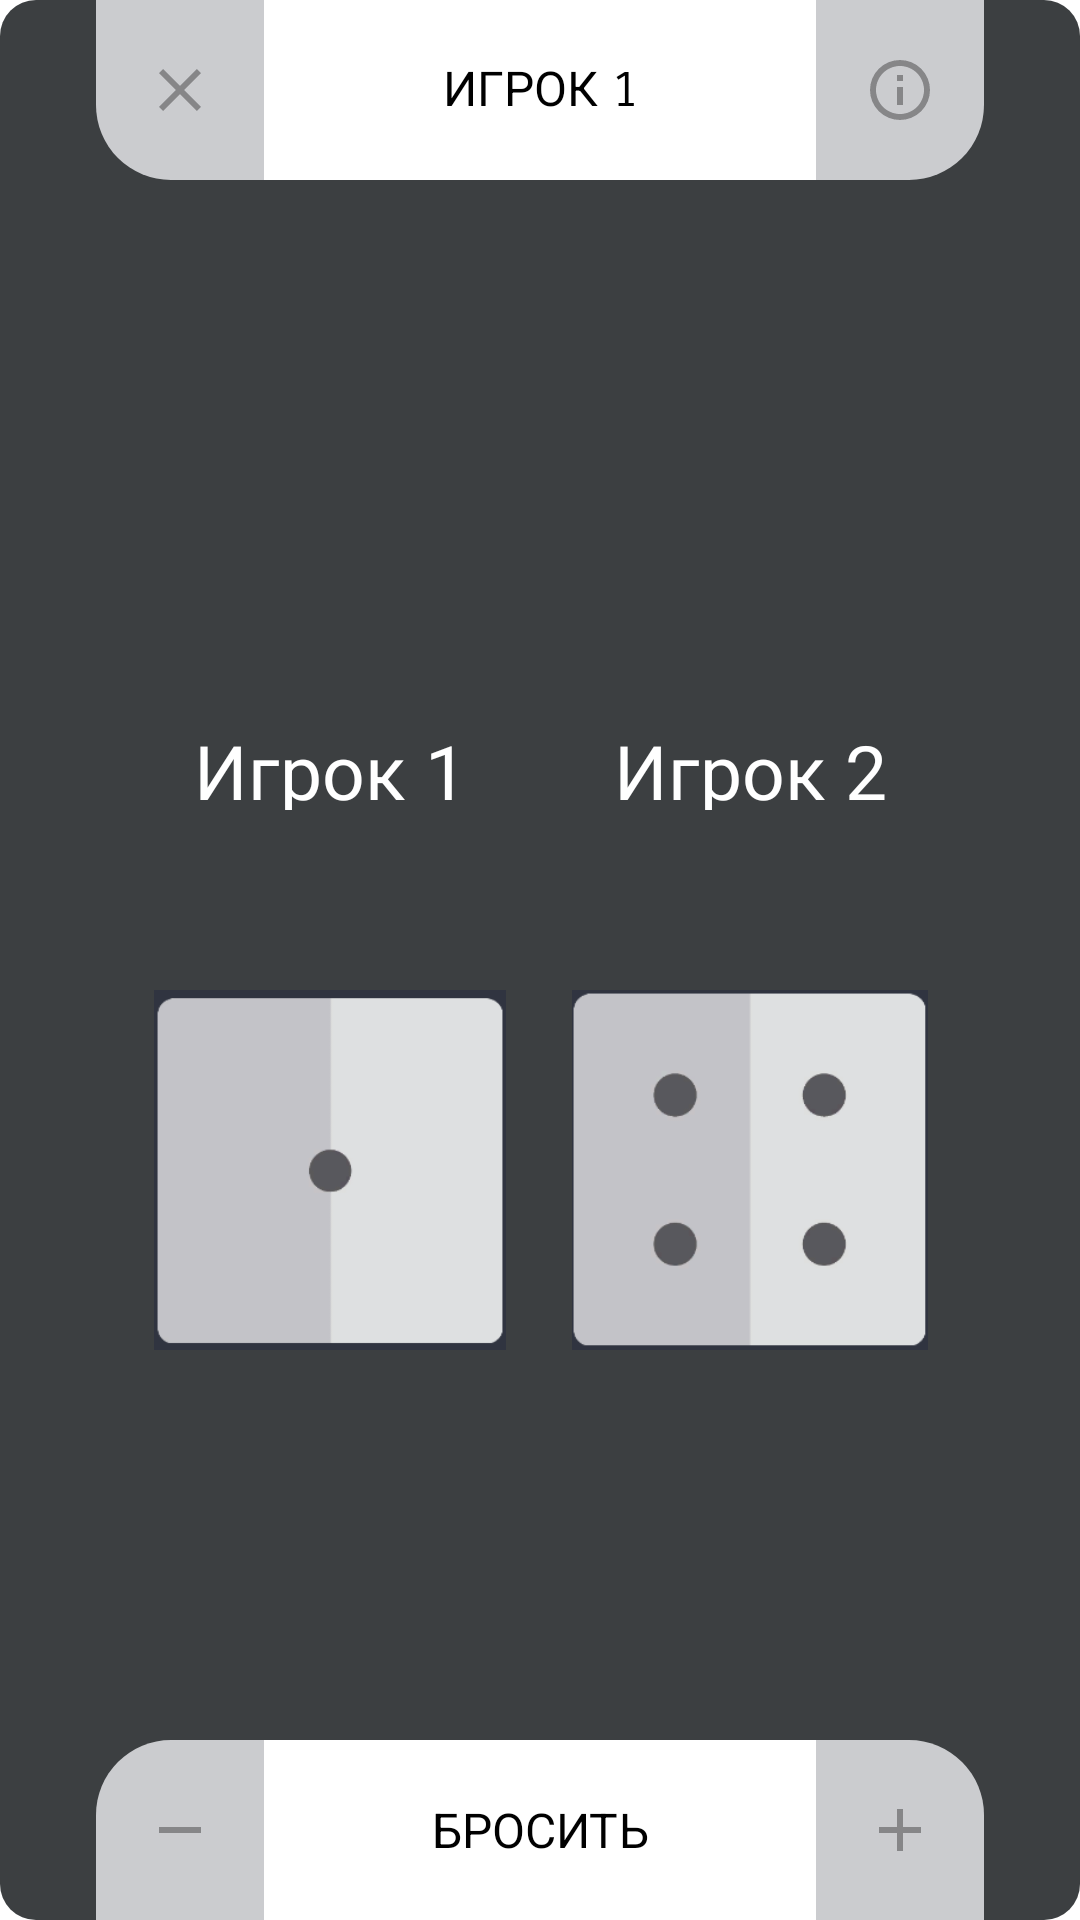

Named icons in this screenshot (1080×1920) and their centers, (x,y):
close: (180,90)
information: (900,90)
plus: (900,1830)
